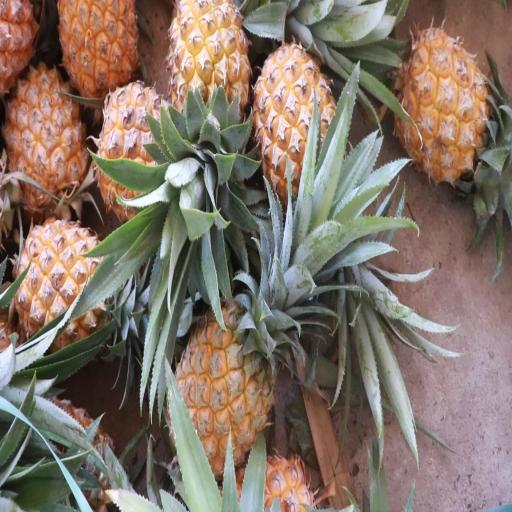Pineapple - v8 v1: (162, 298, 296, 491), (390, 14, 494, 196), (249, 42, 350, 228), (162, 0, 255, 197), (16, 211, 131, 369), (94, 83, 196, 253), (0, 58, 94, 233), (53, 0, 143, 115)
